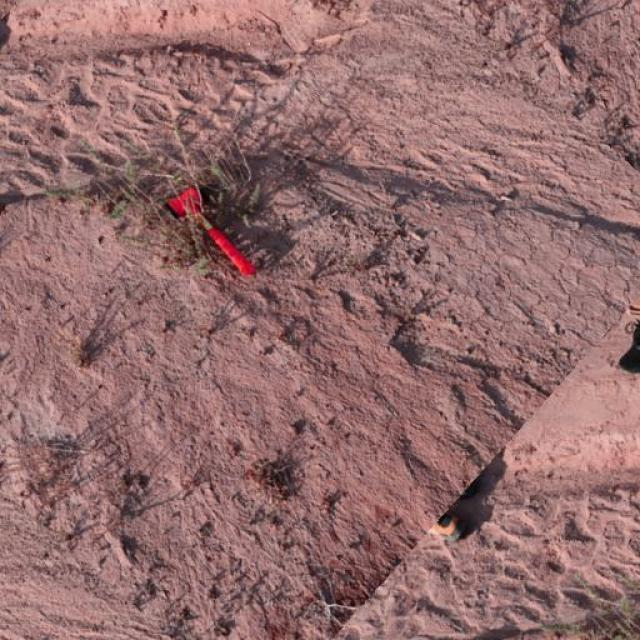mallet: (162, 182, 256, 278)
